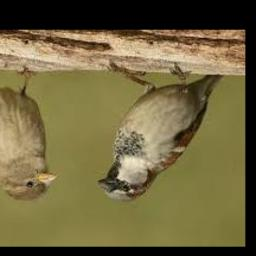Sparrow: (98, 64, 226, 202), (0, 62, 59, 201)
